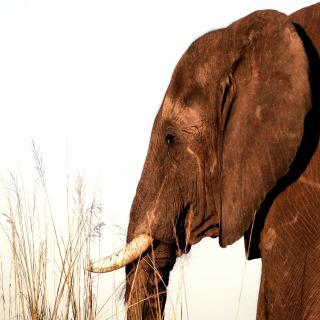Elephant: (90, 4, 320, 320)
